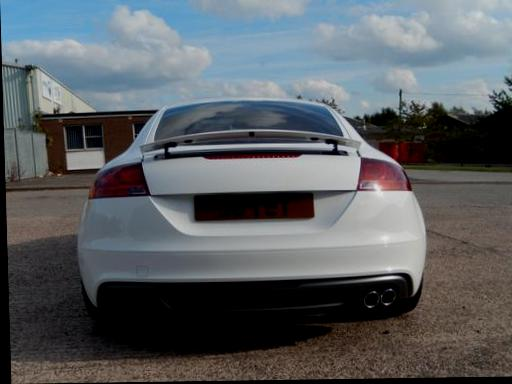License_Plate: (187, 186, 318, 229)
